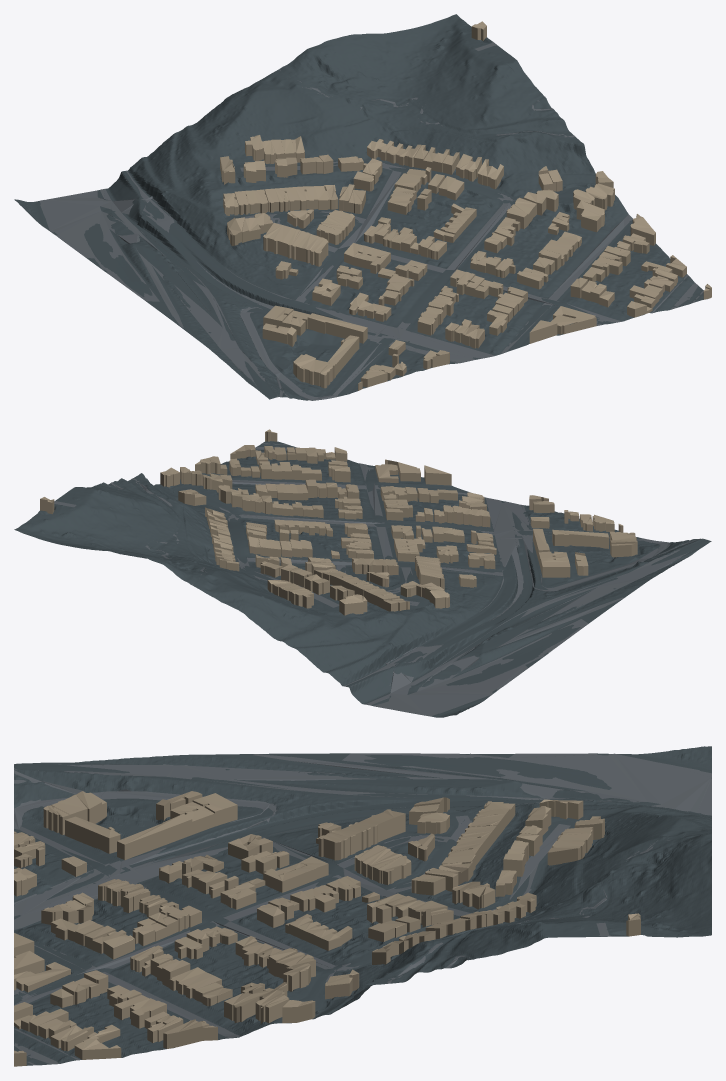
File: epsg26910-1440-10871.lod0.glb
3 renders of one model, top to bottom at view 1: azimuth 30°, elevation 25°; view 2: azimuth 150°, elevation 25°; view 3: azimuth 270°, elevation 25°, orthographic. The views are drawn at different scales.
Parts seen in each view (by area): view 1: epsg26910-1440-10871-lod0; view 2: epsg26910-1440-10871-lod0; view 3: epsg26910-1440-10871-lod0.
Boxes of the visible parts, <box> form: epsg26910-1440-10871-lod0: <box>14,14,711,400</box>; epsg26910-1440-10871-lod0: <box>14,429,711,717</box>; epsg26910-1440-10871-lod0: <box>14,746,711,1066</box>.
Bounding box in the file's own units: 384 × 96.68 × 384.
